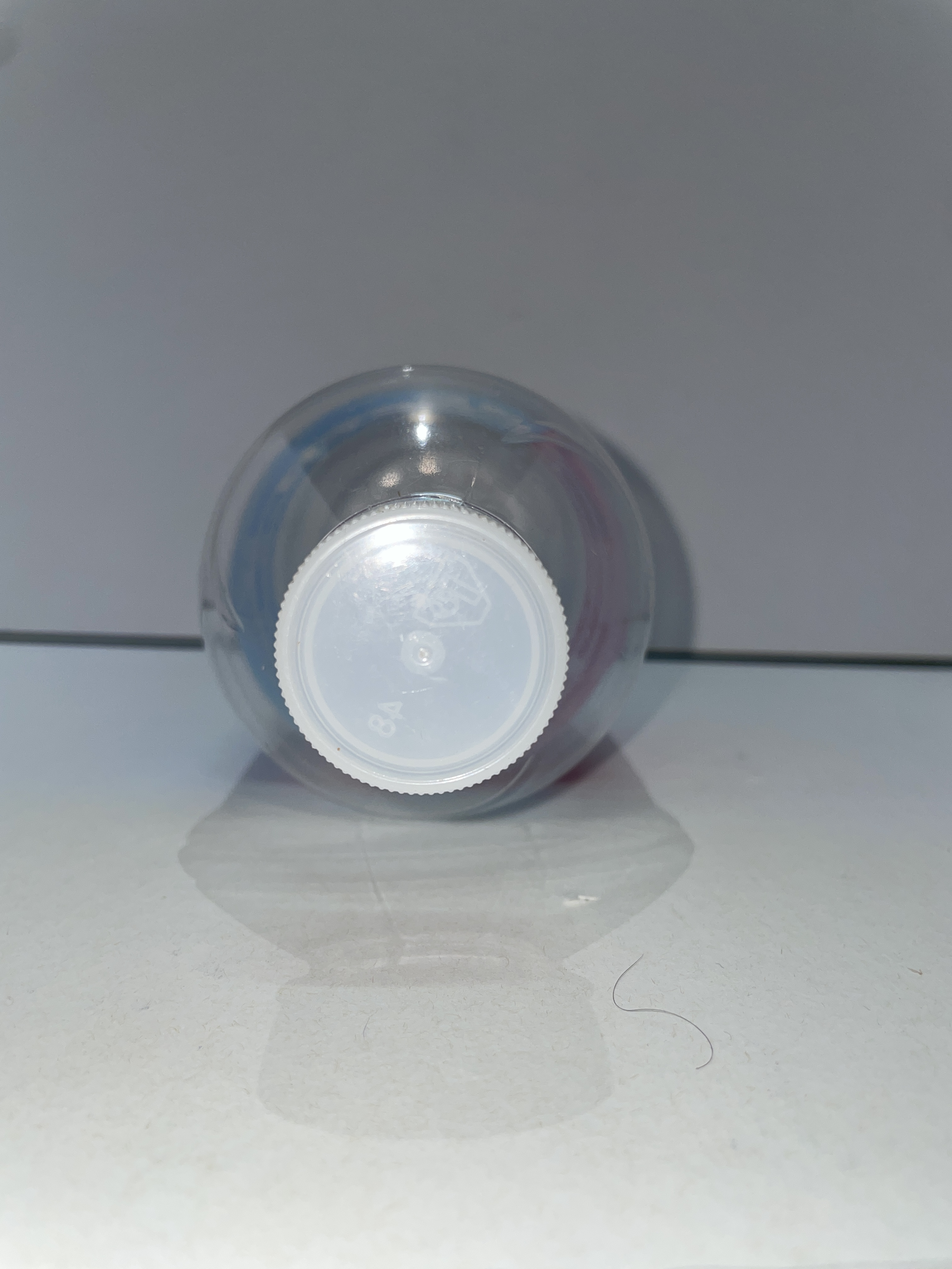Refresh 1000ml: (201, 365, 654, 819)
